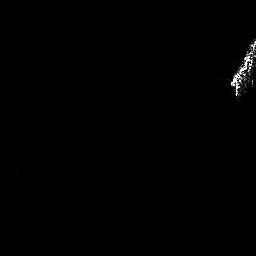ship: (227, 37, 256, 98)
